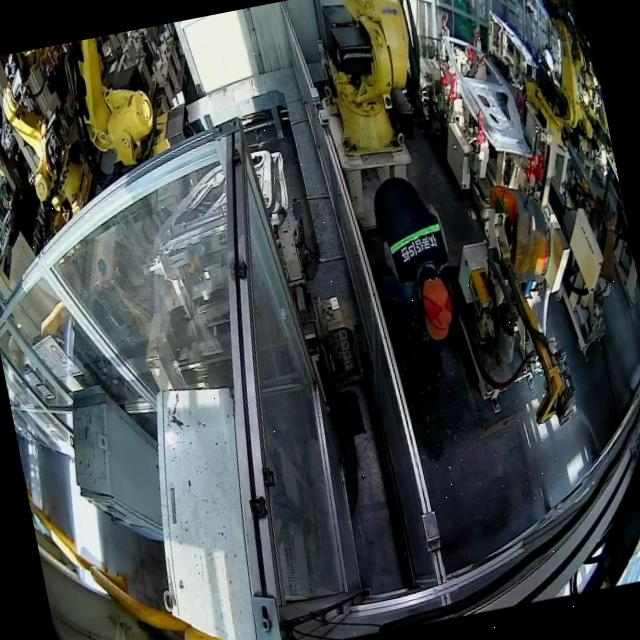Person: (366, 166, 470, 362)
